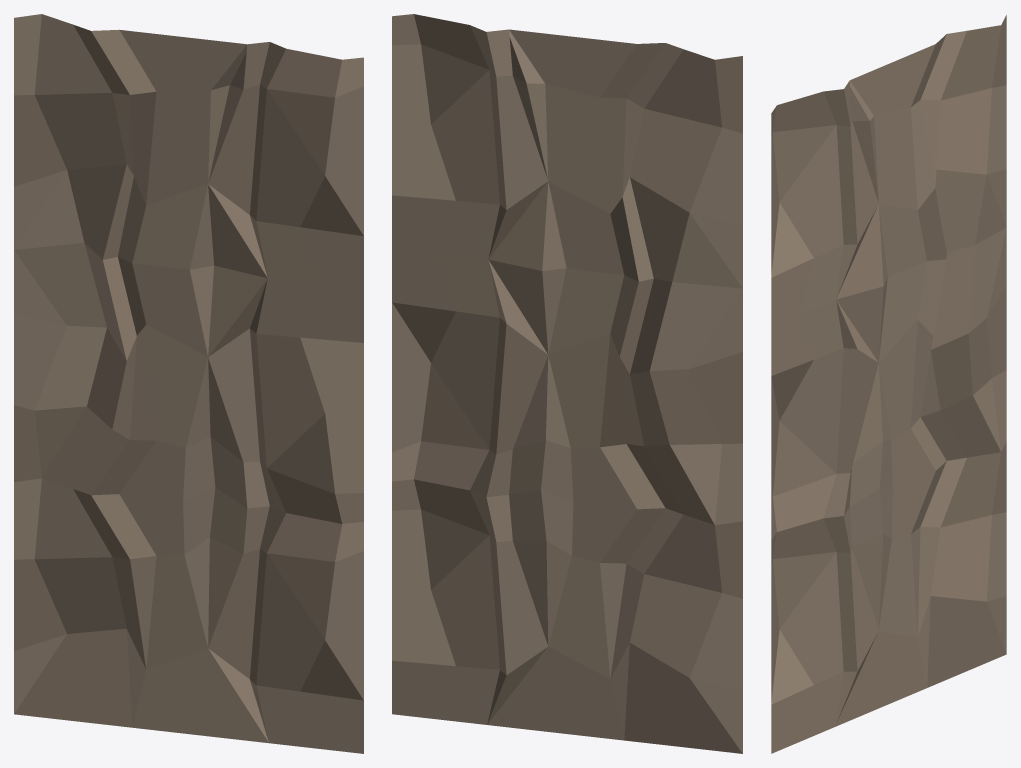
The model's file is ER_Terrain_3x1_Dirt_Diagonal_001_B.fbx.
3 renders of one model, left to right at view 1: azimuth 30°, elevation 25°; view 2: azimuth 210°, elevation 25°; view 3: azimuth 270°, elevation 25°, orthographic. The views are drawn at different scales.
Visible parts, largest first — view 1: ER_Terrain_3x1_Dirt_Diagonal_001_B; view 2: ER_Terrain_3x1_Dirt_Diagonal_001_B; view 3: ER_Terrain_3x1_Dirt_Diagonal_001_B.
Part boxes in pixels (x1=…): ER_Terrain_3x1_Dirt_Diagonal_001_B: x1=14, y1=14, x2=363, y2=753; ER_Terrain_3x1_Dirt_Diagonal_001_B: x1=392, y1=14, x2=742, y2=753; ER_Terrain_3x1_Dirt_Diagonal_001_B: x1=771, y1=15, x2=1006, y2=753.
Size of the model in its own units: 1 by 3 by 1.
